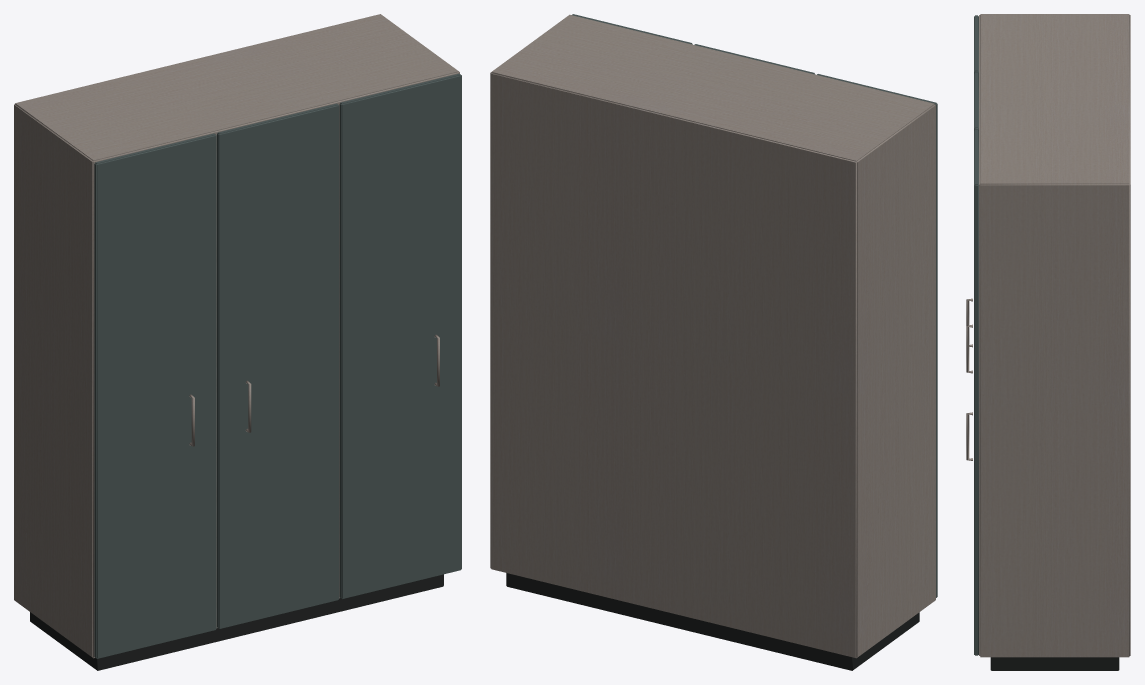
Rendered from modern.wardrobe.gltf.
3 views of the same model, side by side, from view 1: azimuth 30°, elevation 25°; view 2: azimuth 150°, elevation 25°; view 3: azimuth 270°, elevation 25° (orthographic). The views are drawn at different scales.
Visible parts, largest first — view 1: modern.wardrobe.carcass; view 2: modern.wardrobe.carcass; view 3: modern.wardrobe.carcass.
Part boxes in pixels (<box>): modern.wardrobe.carcass: <box>14,14,461,670</box>; modern.wardrobe.carcass: <box>490,14,937,670</box>; modern.wardrobe.carcass: <box>966,14,1130,670</box>.
Bounding box in the file's own units: 1.6 × 2.15 × 0.6507.
3 materials, 1 textured.
